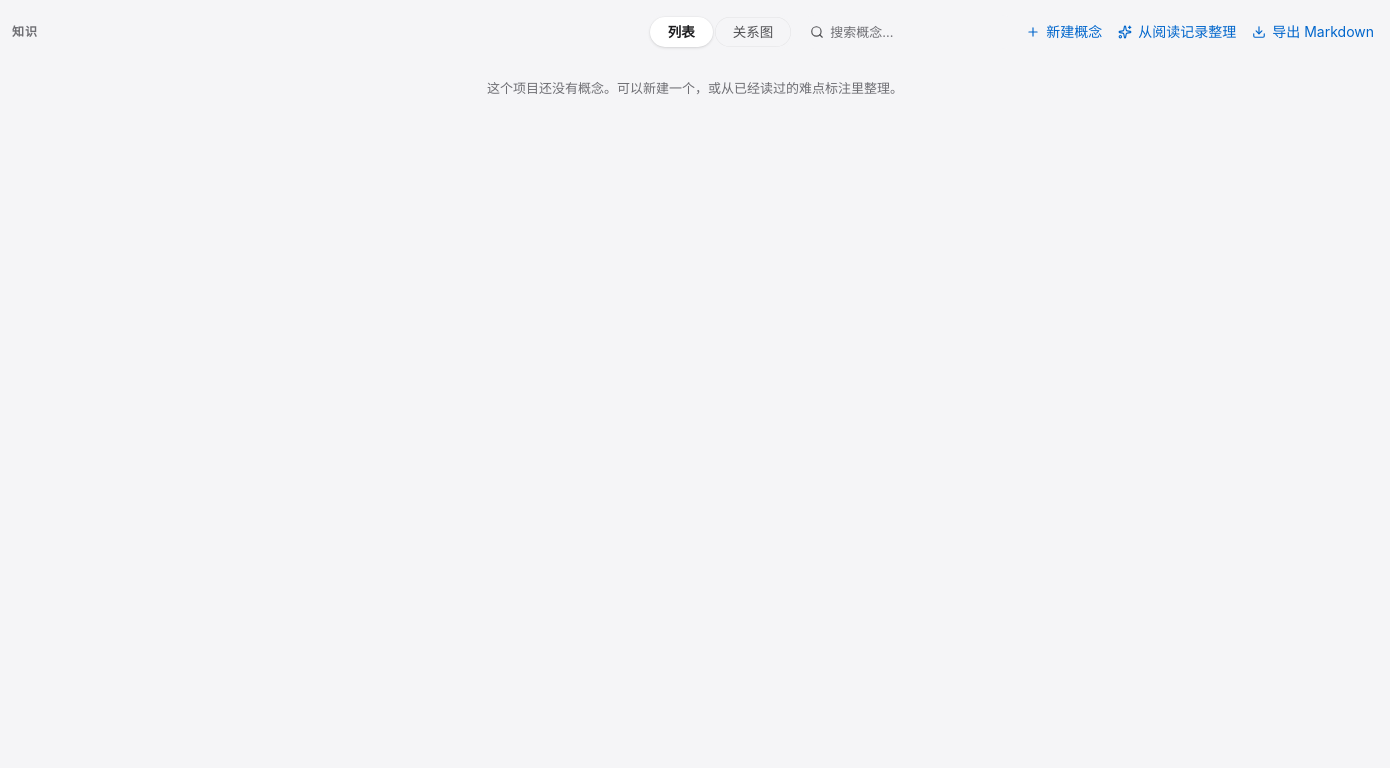
KnowledgeView: concepts › keeps the graph and the list showing the same concepts
Click the button "新建概念" at coordinates (1064, 32), box [1022,17,1106,47]
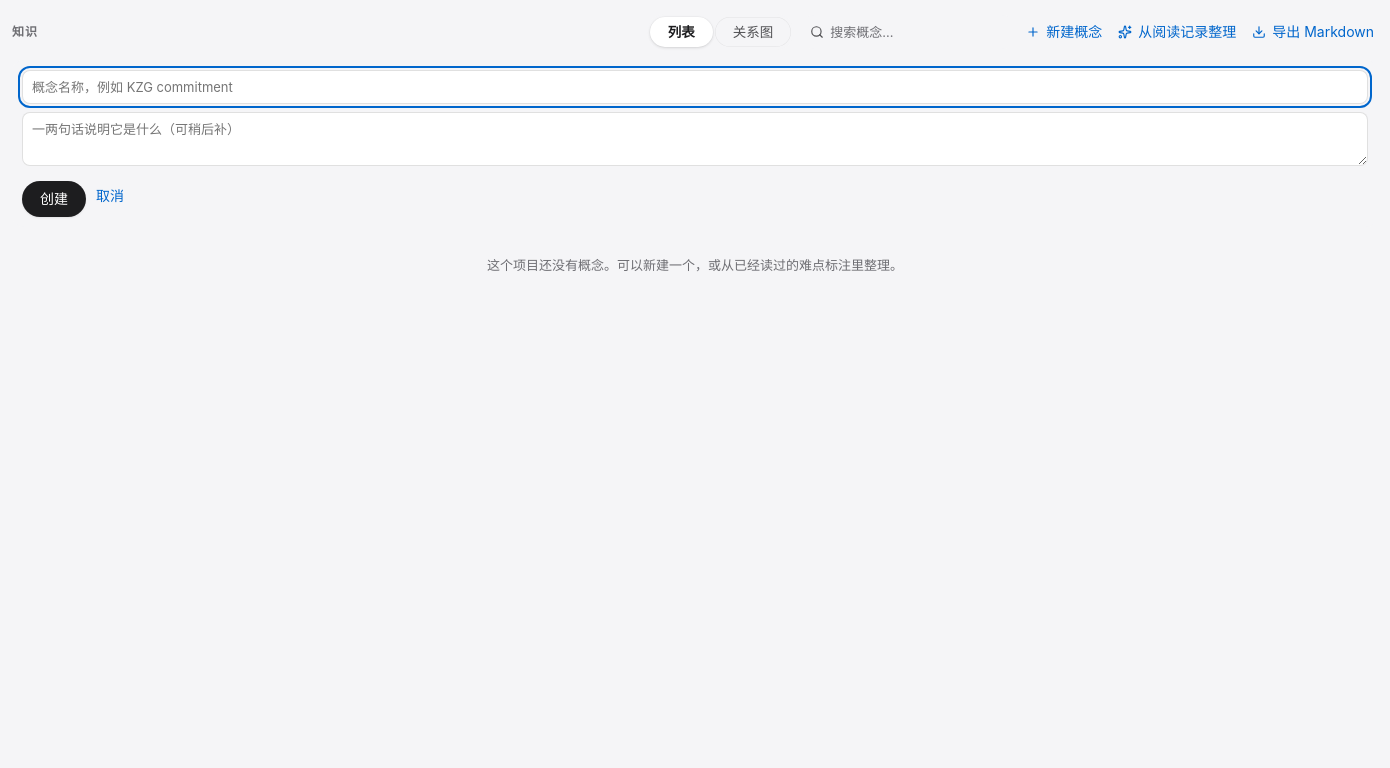
Type "Alpha" into the field labelled "概念名称" at coordinates (695, 87), box [22,70,1368,104]
Click the button "创建" at coordinates (54, 199), box [22,181,86,217]
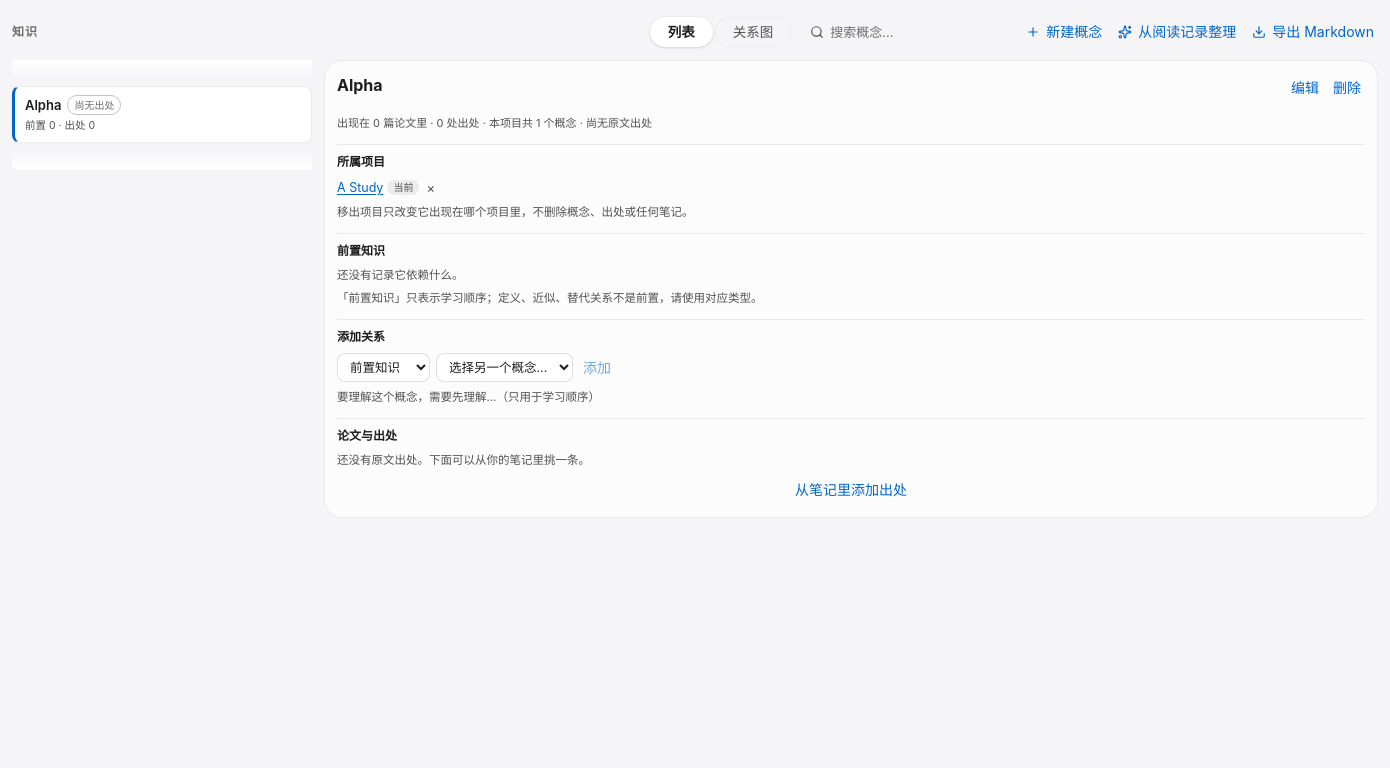
Click the button "新建概念" at coordinates (1064, 32), box [1022,17,1106,47]
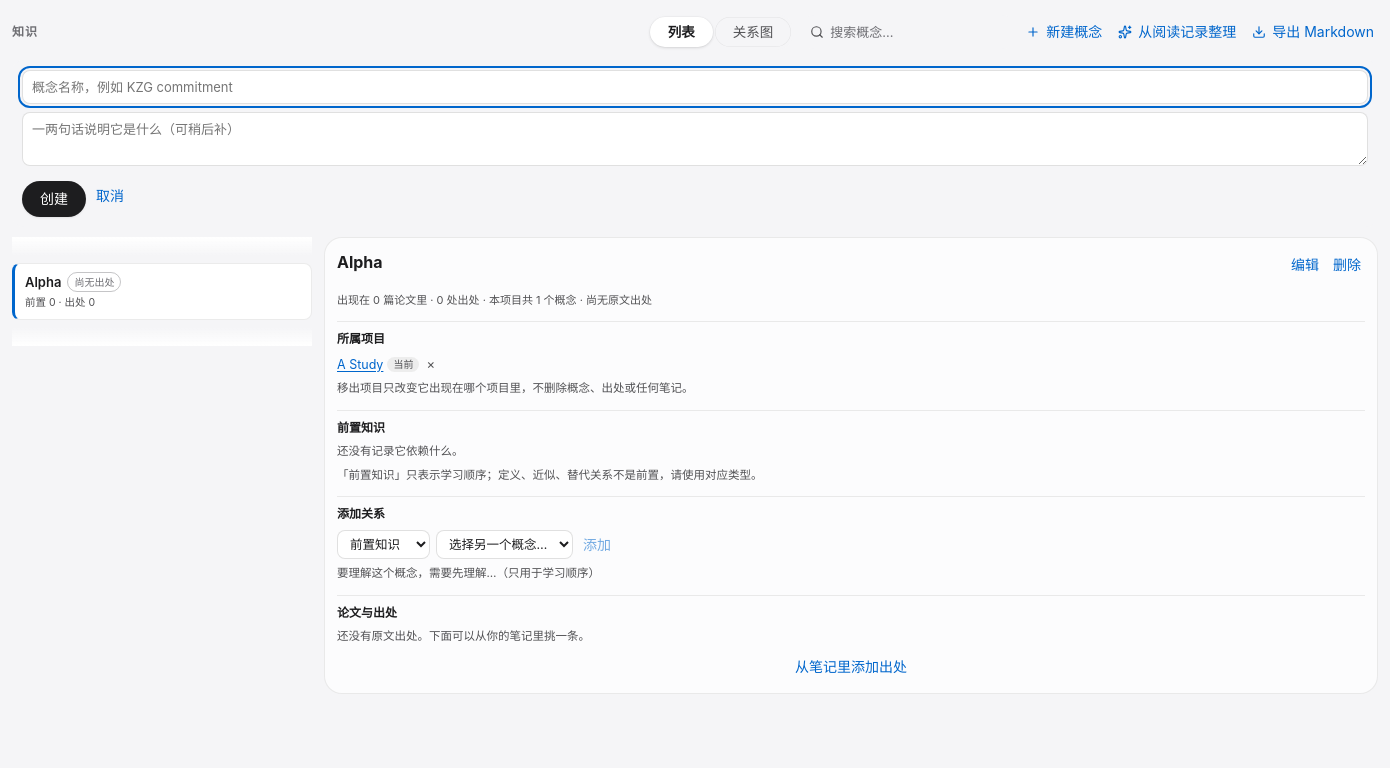
Type "Beta" into the field labelled "概念名称" at coordinates (695, 87), box [22,70,1368,104]
Click the button "创建" at coordinates (54, 199), box [22,181,86,217]
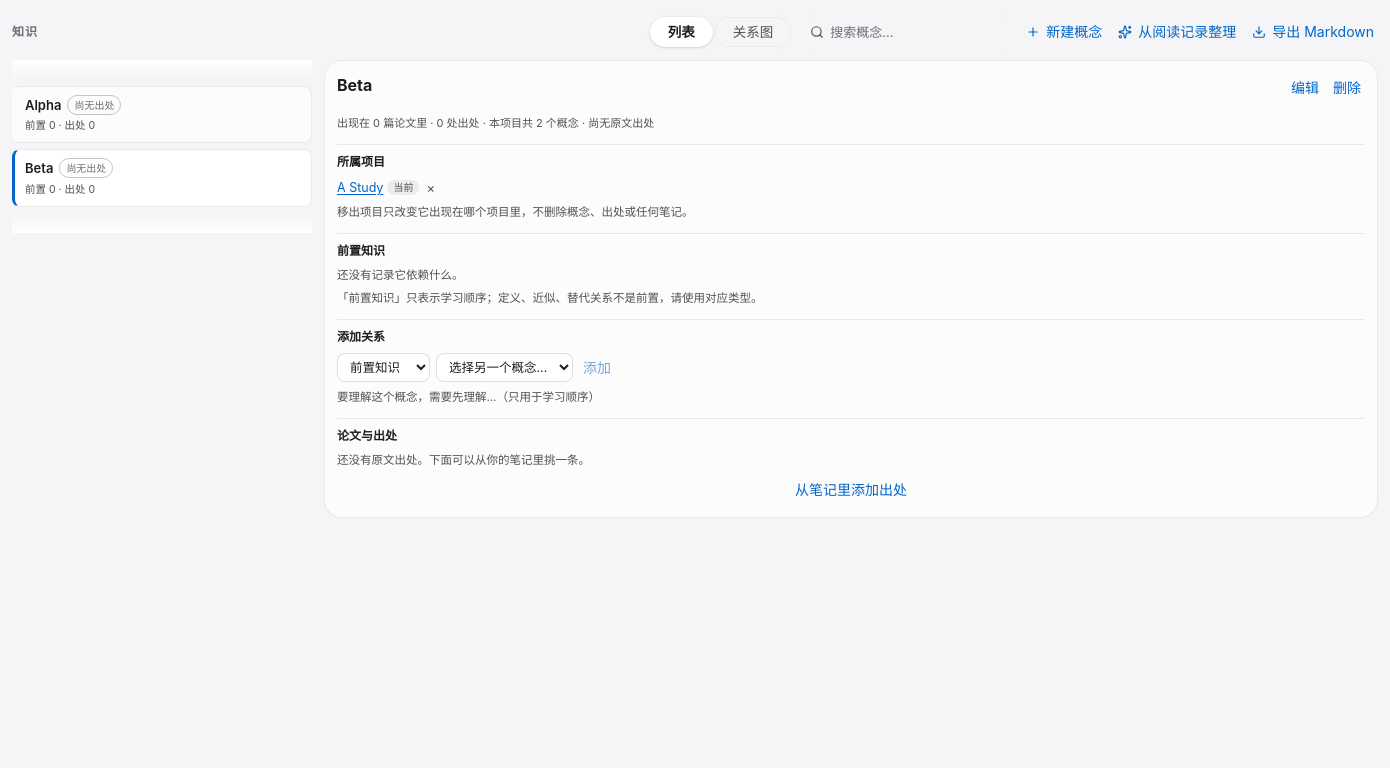
Click the button "关系图" at coordinates (753, 32), box [715,17,791,47]
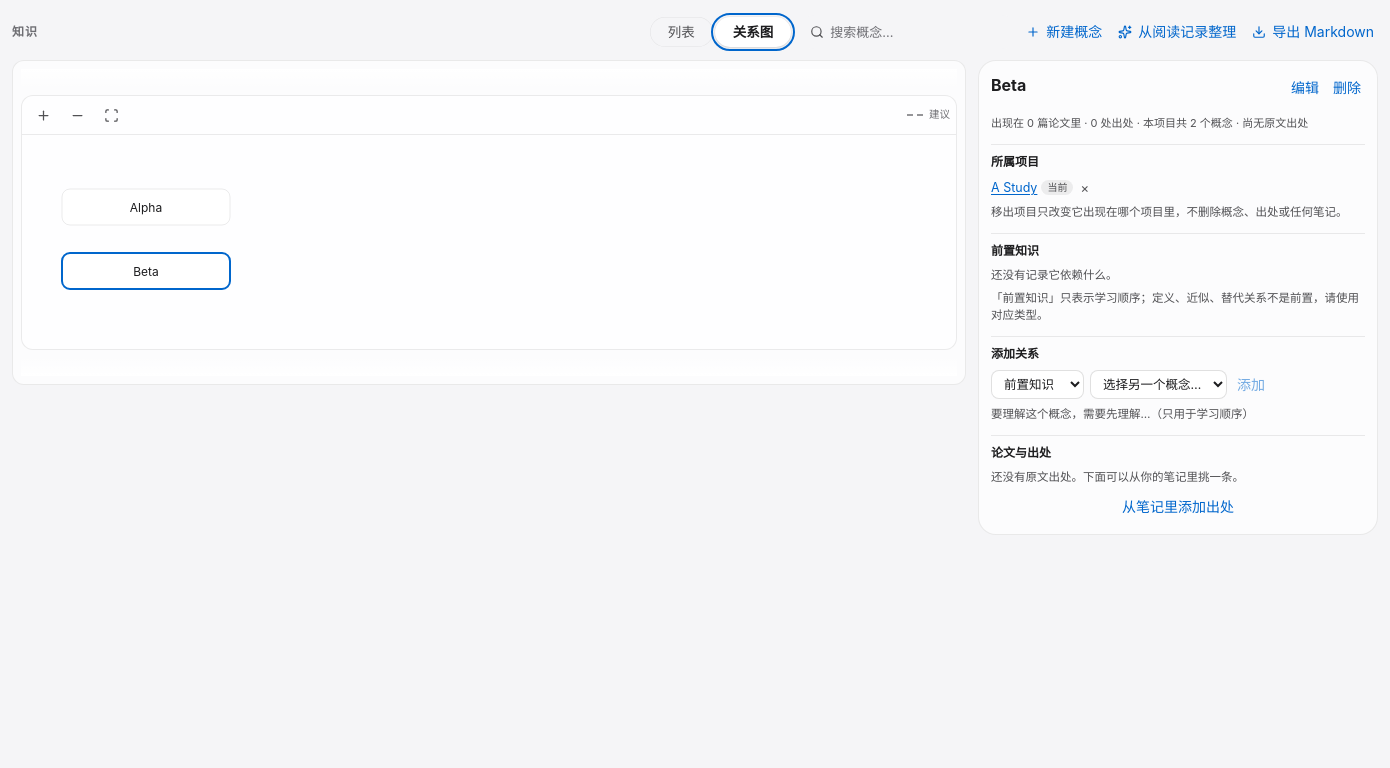
Click the button "列表" at coordinates (681, 32), box [650,17,713,47]
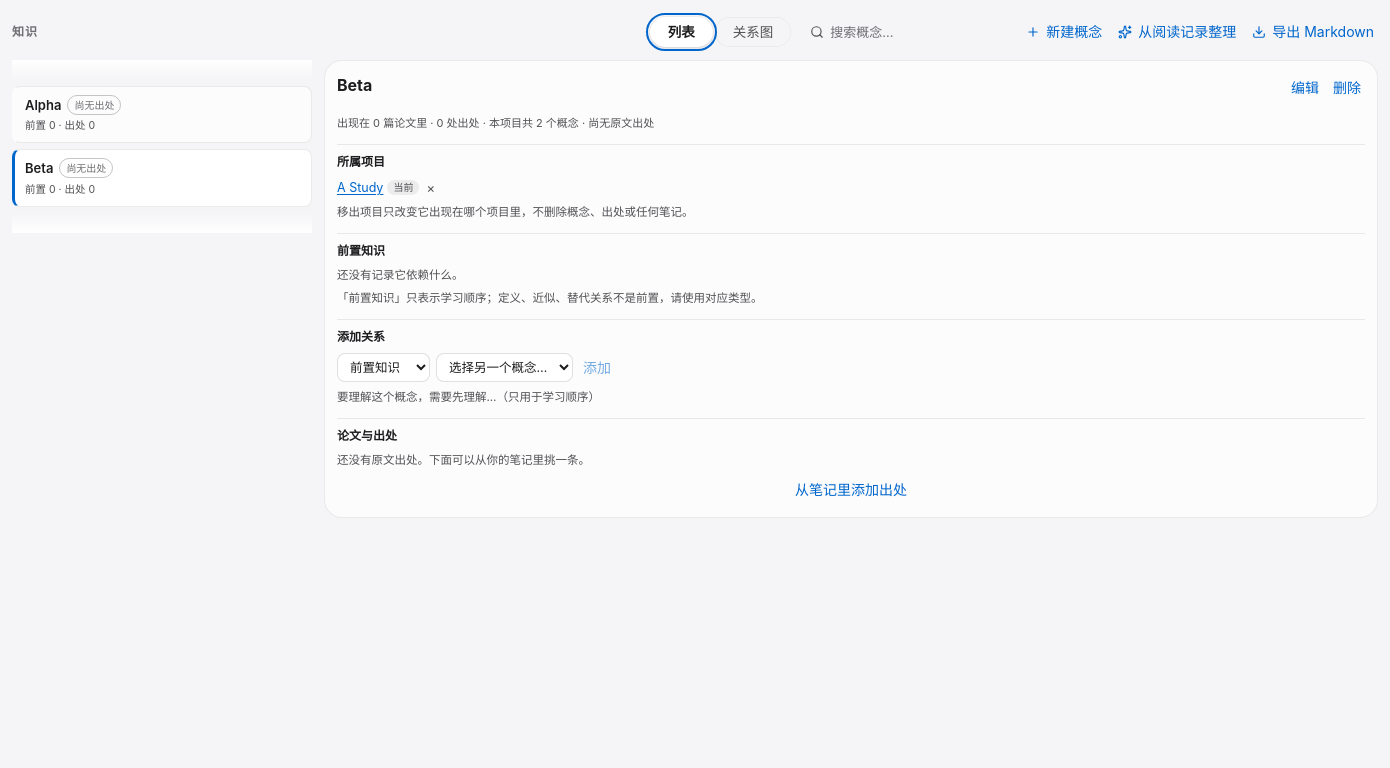
Expected: the text "Alpha" is shown, [25,97,61,113]
